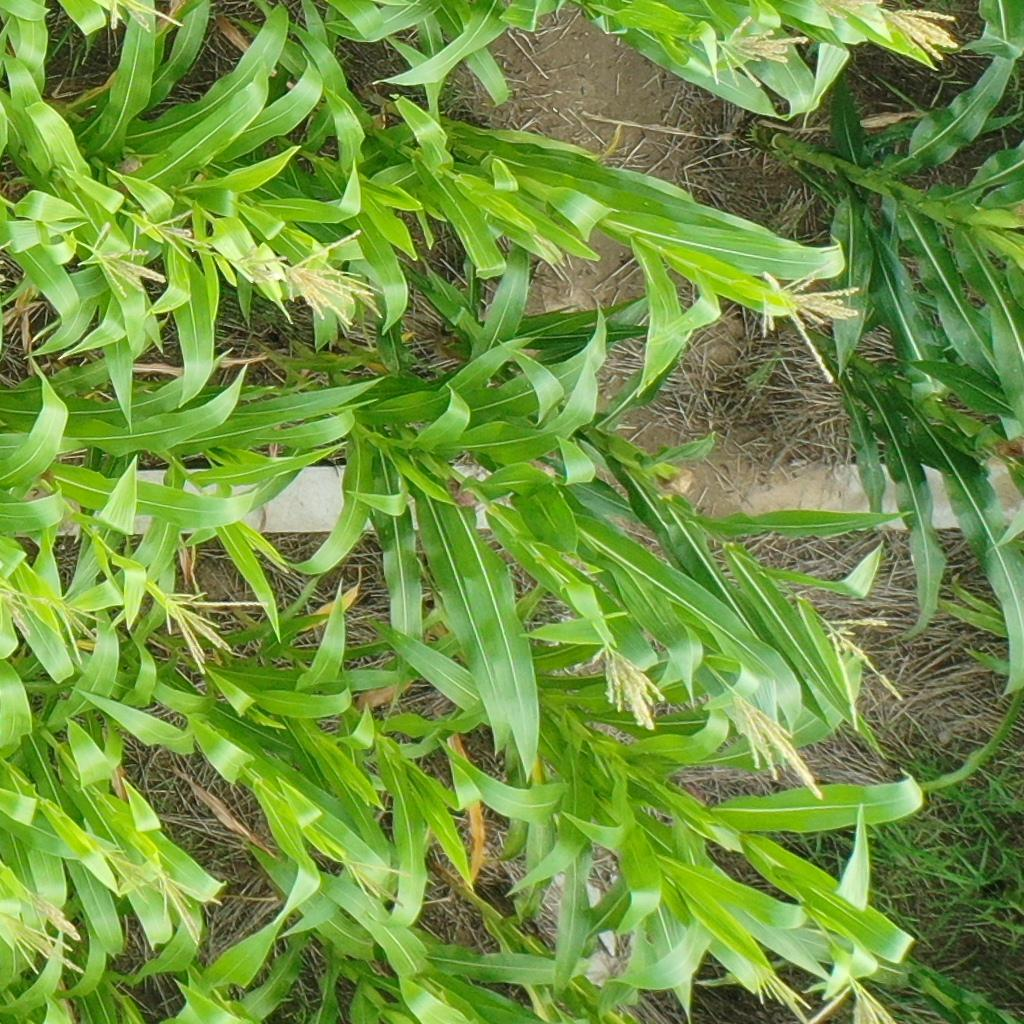Tassel: (756, 262, 862, 386), (724, 693, 828, 798), (279, 228, 387, 328), (821, 613, 908, 731), (155, 590, 267, 679), (73, 219, 168, 303), (588, 636, 669, 733), (715, 15, 810, 91), (329, 848, 410, 916), (2, 911, 84, 976), (157, 867, 219, 949), (885, 1, 962, 67), (808, 976, 897, 1024), (752, 960, 814, 1024), (53, 592, 101, 662), (145, 208, 203, 263), (30, 890, 85, 948), (105, 1, 185, 38), (100, 843, 150, 901), (231, 240, 286, 290), (1, 585, 40, 633), (821, 1, 888, 24)
